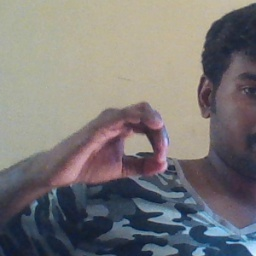O: (46, 99, 174, 186)
